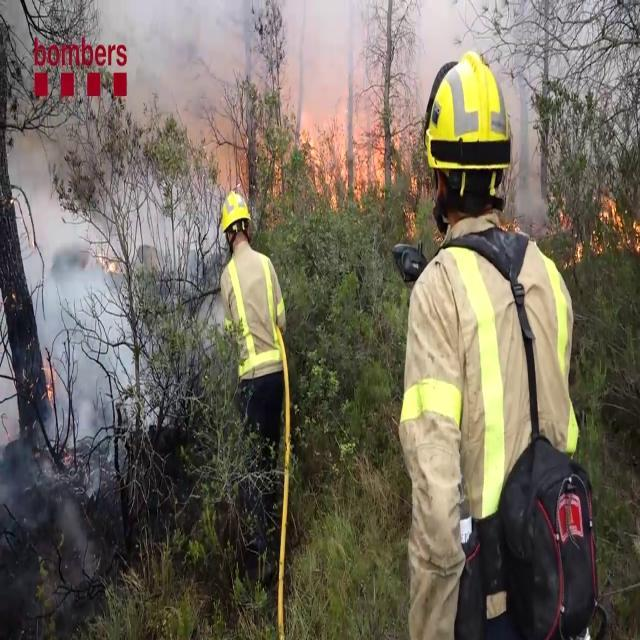Fire: (300, 70, 388, 206), (594, 189, 640, 257)
Smoke: (12, 170, 144, 448), (501, 56, 549, 238)
